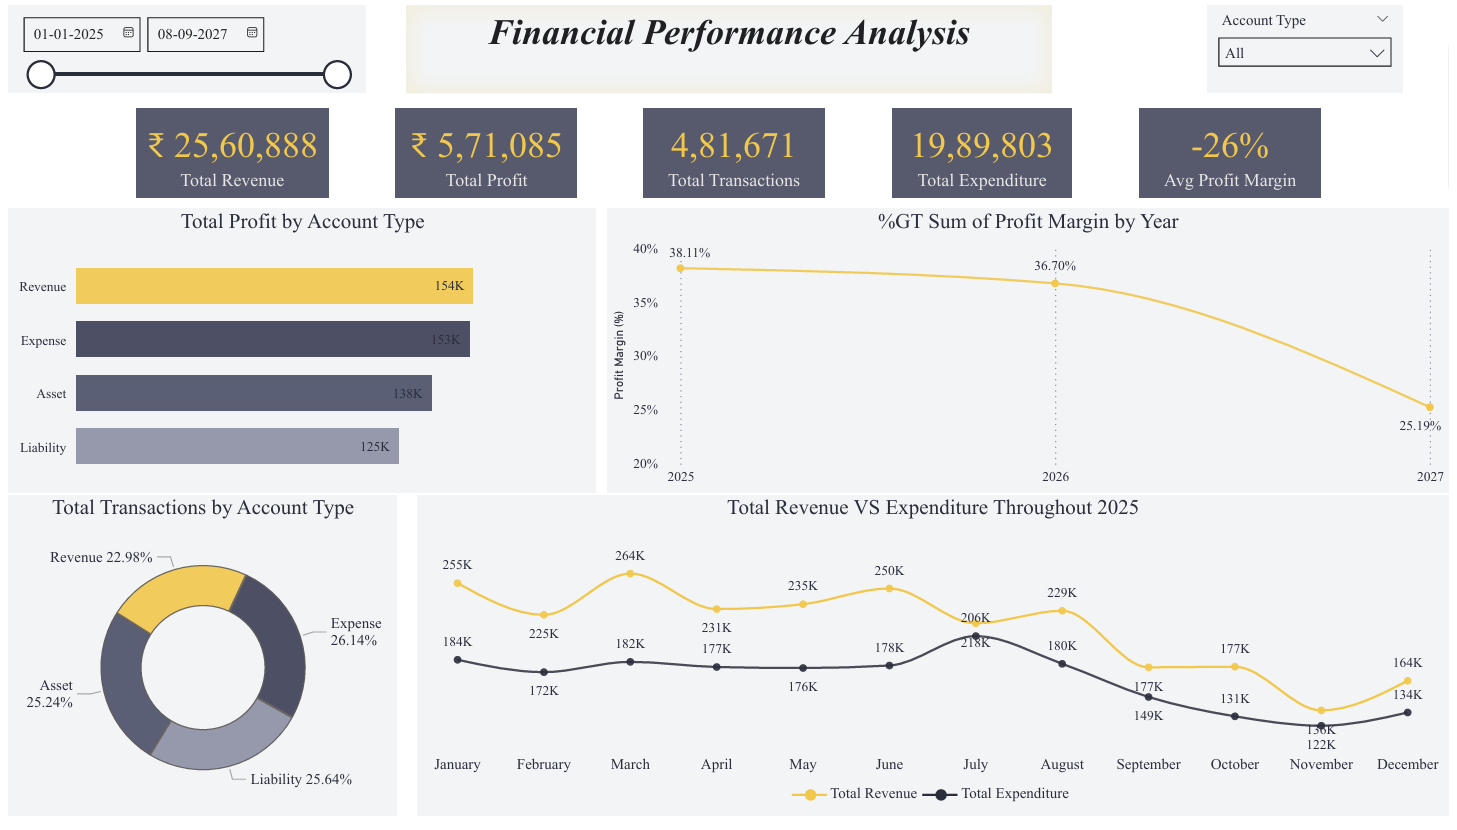

The page's visual inventory and layout, read from the dashboard file:
{"tool":"powerbi","page":{"name":"EXECUTIVE OVERVIEW","canvas":[1280,720],"ordinal":0},"visuals":[{"type":"slicer","fields":{"Values":["accounting_data.Account Type"]},"box":[1065.1,0,173.9,78.4],"z":0,"group":"g1"},{"type":"card","fields":{"Values":["accounting_data.Total Revenue"]},"box":[113.2,90.8,171.2,79.6],"z":0,"group":"g2"},{"type":"lineChart","title":"Total Revenue VS Expenditure Throughout 2025","fields":{"Y":["accounting_data.Total Revenue","Sum(accounting_data.Expenditure)"],"Category":["accounting_data.Date.Variation.Date Hierarchy.Month","accounting_data.Date.Variation.Date Hierarchy.Day"]},"box":[363.2,435.4,916.8,284.9],"z":0,"group":"g3"},{"type":"slicer","fields":{"Values":["accounting_data.Date"]},"box":[0,0,317.9,78.4],"z":1000,"group":"g1"},{"type":"card","fields":{"Values":["accounting_data.Total Profit"]},"box":[344.3,90.8,160.4,79.6],"z":1000,"group":"g2"},{"type":"lineChart","fields":{"Y":["Sum(accounting_data.Profit Margin)"],"Category":["accounting_data.Date.Variation.Date Hierarchy.Year","accounting_data.Date.Variation.Date Hierarchy.Quarter","accounting_data.Date.Variation.Date Hierarchy.Month"]},"box":[532.4,180.4,747.6,252.5],"z":1000,"group":"g3"},{"type":"textbox","box":[352.8,0,574.4,78.4],"z":2000,"group":"g1"},{"type":"card","fields":{"Values":["accounting_data.Total Transactions"]},"box":[564.7,90.8,160.4,79.6],"z":2000,"group":"g2"},{"type":"donutChart","fields":{"Category":["accounting_data.Account Type"],"Y":["accounting_data.Total Transactions"]},"box":[0,435.4,344.6,284.9],"z":2000,"group":"g3"},{"type":"group","id":"g1","title":"Group 1","box":[0,0,1239,78.4],"z":3000},{"type":"card","fields":{"Values":["accounting_data.Total Expenditure"]},"box":[785,90.8,160.4,79.6],"z":3000,"group":"g2"},{"type":"group","id":"g2","title":"Group 2","box":[113.2,90.8,1053.6,79.6],"z":4000},{"type":"card","fields":{"Values":["accounting_data.Avg Profit Margin"]},"box":[1005.4,90.8,160.4,79.6],"z":4000,"group":"g2"},{"type":"clusteredBarChart","title":"Total Profit by Account Type","fields":{"Category":["accounting_data.Account Type"],"Y":["accounting_data.Total Profit"]},"box":[0,180.4,522.5,252.5],"z":4001,"group":"g3"},{"type":"group","id":"g3","title":"Group 3","box":[0,180.4,1280,539.9],"z":4002}]}

Visuals, with their boxes in screenshot pixels (x1, y1, x2, y2), scaled from the page's 1280x720 canvas onto the 1457x830 screenshot:
slicer - accounting_data.Account Type: box=[1212, 0, 1410, 90]
card - accounting_data.Total Revenue: box=[129, 105, 324, 196]
"Total Revenue VS Expenditure Throughout 2025" lineChart: box=[413, 502, 1456, 829]
slicer - accounting_data.Date: box=[0, 0, 362, 90]
card - accounting_data.Total Profit: box=[392, 105, 574, 196]
lineChart - Sum(accounting_data.Profit Margin) x accounting_data.Date.Variation.Date Hierarchy.Year: box=[606, 208, 1456, 499]
textbox: box=[402, 0, 1055, 90]
card - accounting_data.Total Transactions: box=[643, 105, 825, 196]
donutChart - accounting_data.Account Type x accounting_data.Total Transactions: box=[0, 502, 392, 829]
"Group 1" group: box=[0, 0, 1410, 90]
card - accounting_data.Total Expenditure: box=[894, 105, 1076, 196]
"Group 2" group: box=[129, 105, 1328, 196]
card - accounting_data.Avg Profit Margin: box=[1144, 105, 1327, 196]
"Total Profit by Account Type" clusteredBarChart: box=[0, 208, 595, 499]
"Group 3" group: box=[0, 208, 1456, 829]
